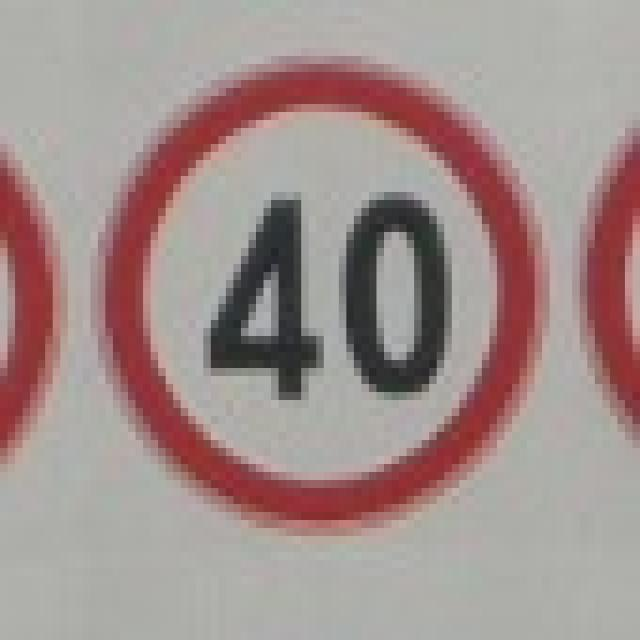Speed Limit -40-: (199, 184, 458, 406)
